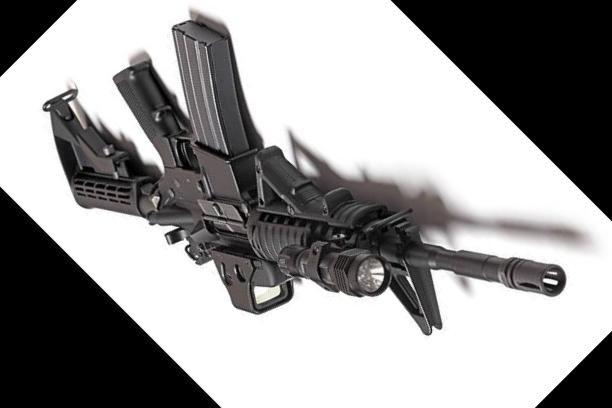larga: (43, 20, 568, 336)
